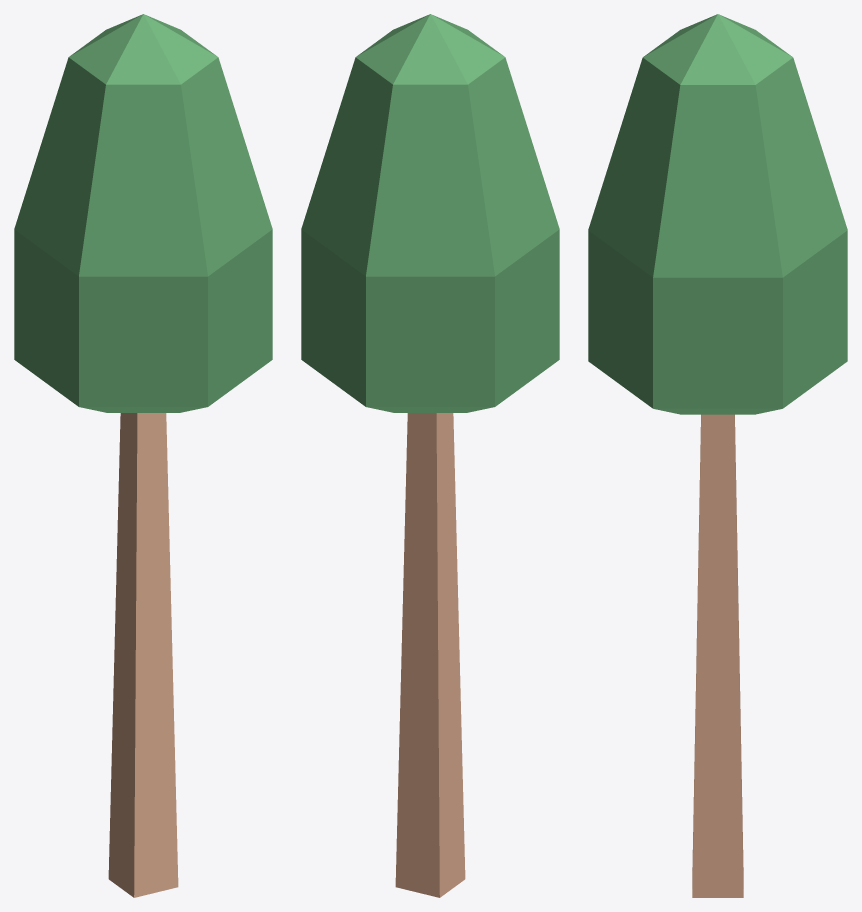
Rendered from columnartree_1.glb.
3 renders of one model, left to right at view 1: azimuth 30°, elevation 25°; view 2: azimuth 150°, elevation 25°; view 3: azimuth 270°, elevation 25°, orthographic.
Parts seen in each view (by area): view 1: tree_simple; view 2: tree_simple; view 3: tree_simple.
Boxes of the visible parts, x1,y1,x2,y2 form: tree_simple: (14,14,272,897); tree_simple: (301,14,559,897); tree_simple: (588,14,847,897).
Bounding box in the file's own units: 1.4 × 6 × 1.62.
